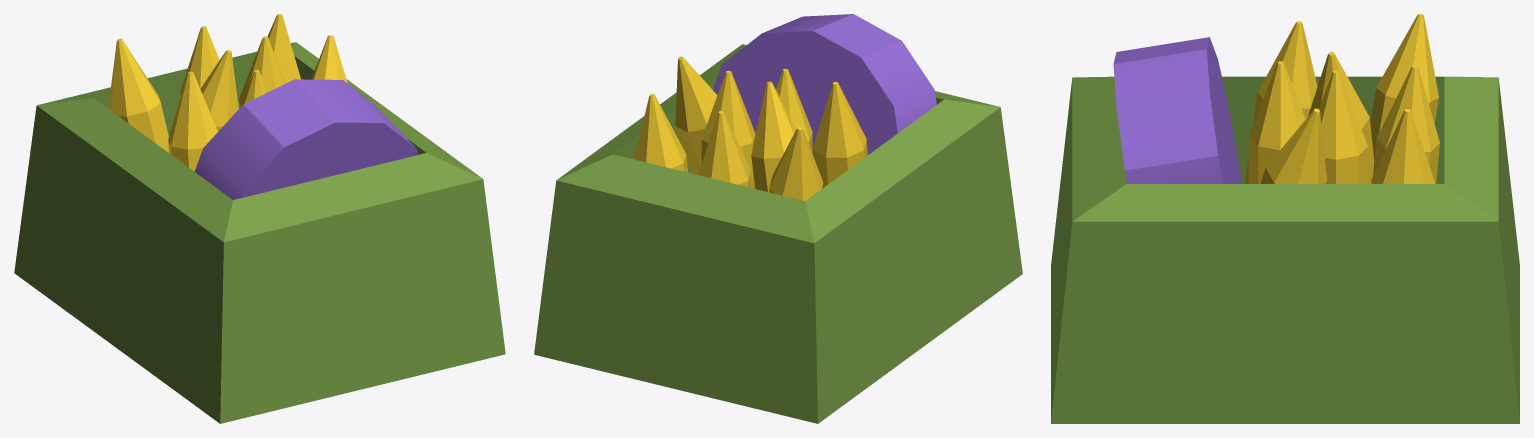
The model's file is AmmoBoxModel.dae.
3 views of the same model, side by side, from view 1: azimuth 30°, elevation 25°; view 2: azimuth 150°, elevation 25°; view 3: azimuth 270°, elevation 25° (orthographic). The views are drawn at different scales.
Parts seen in each view (by area): view 1: Cube, Cylinder, Cylinder.003; view 2: Cube, Cylinder.003, Cylinder; view 3: Cube, Cylinder.003, Cylinder.
Part boxes in pixels (x1,y1,x2,y2): Cube: (14,42,505,423); Cylinder: (194,79,417,199); Cylinder.003: (108,14,347,171); Cube: (534,44,1022,423); Cylinder.003: (634,56,867,200); Cylinder: (713,14,936,156); Cube: (1051,76,1519,423); Cylinder.003: (1245,14,1439,183); Cylinder: (1113,37,1241,183).
Size of the model in its own units: 1.14 by 1.43 by 0.9914.
